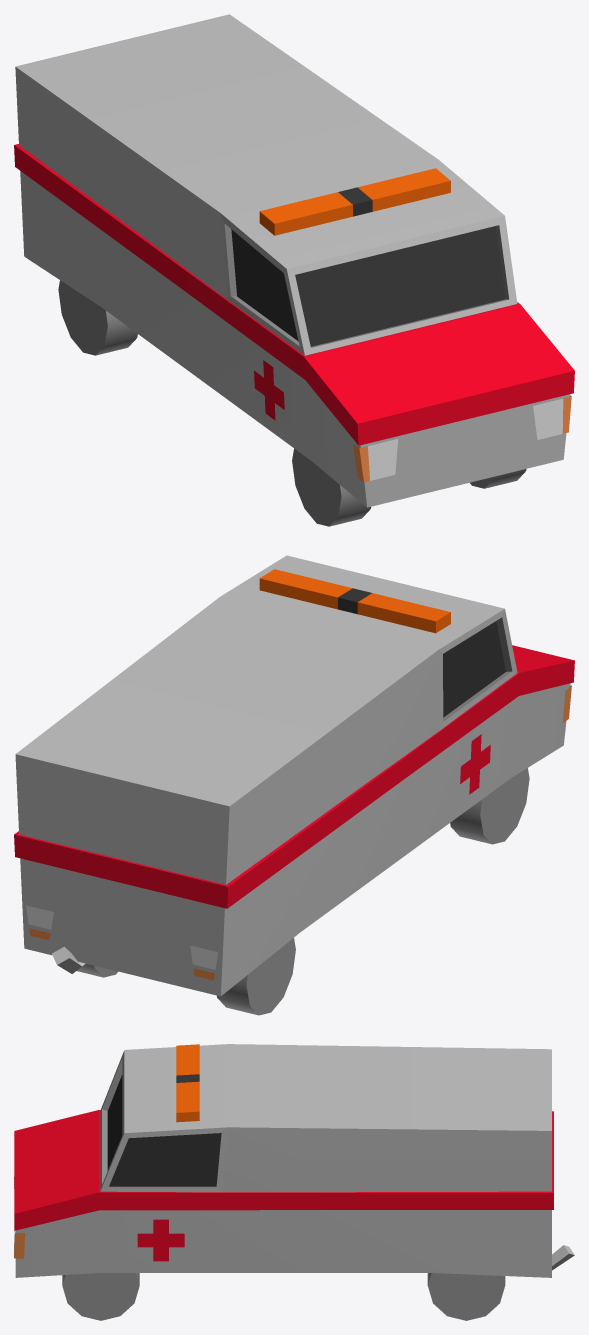
The model's file is ambulance_01.fbx.
The picture shows the model from 3 angles, top to bottom: view 1: azimuth 30°, elevation 25°; view 2: azimuth 150°, elevation 25°; view 3: azimuth 270°, elevation 25°; orthographic projection. The views are drawn at different scales.
Visible parts, largest first — view 1: ambulance_01; view 2: ambulance_01; view 3: ambulance_01.
Part boxes in pixels (x1,y1,x2,y2): ambulance_01: (14, 14, 574, 526); ambulance_01: (14, 555, 574, 1015); ambulance_01: (14, 1044, 574, 1320).
Bounding box in the file's own units: 1.61 × 1.87 × 4.59.
